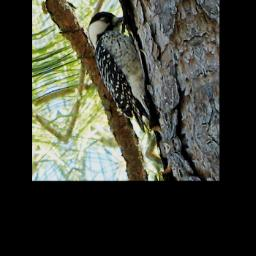Woodpecker: (83, 1, 161, 146)
